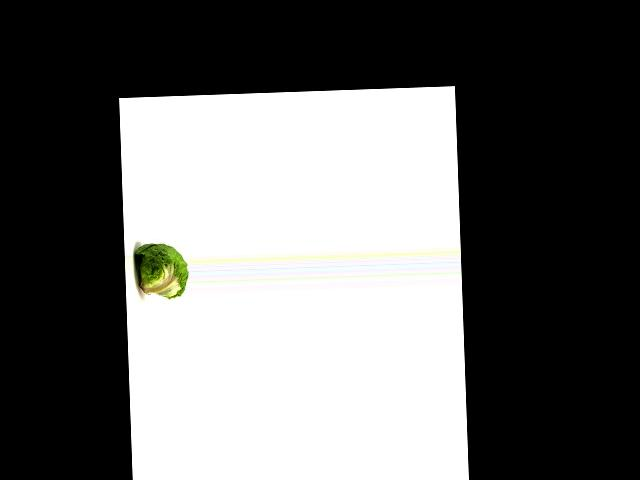lettuce: (131, 241, 188, 301)
